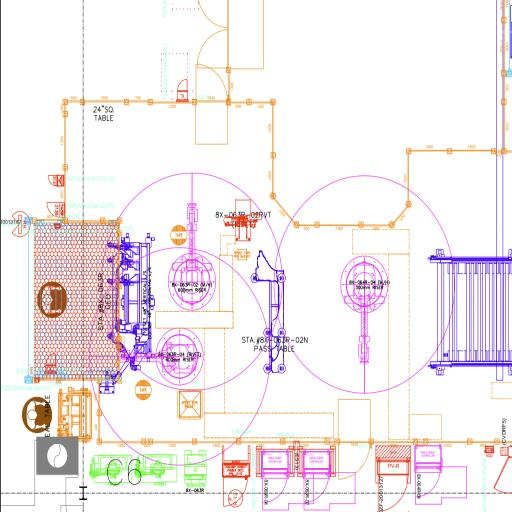robot: (336, 253, 392, 367), (164, 196, 218, 314), (122, 327, 206, 389)
